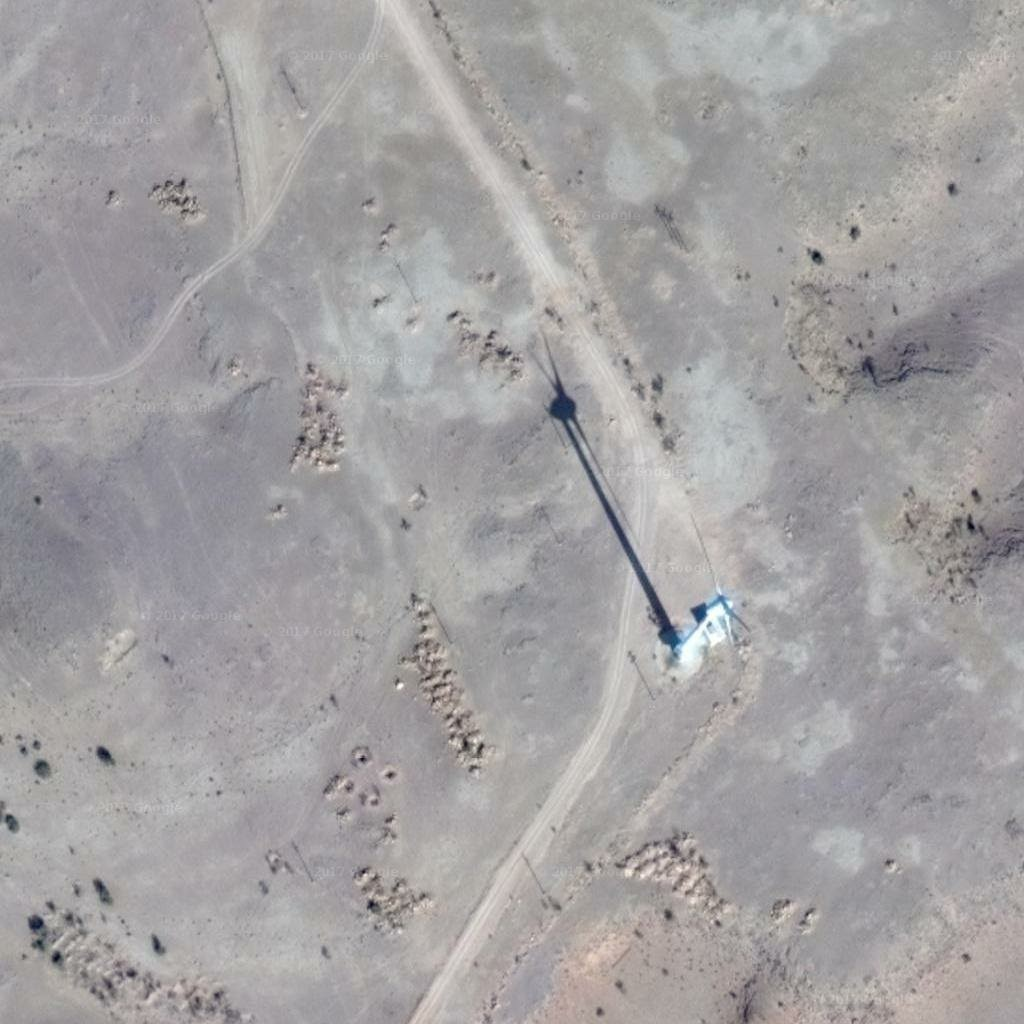Windmill: (521, 341, 681, 635)
